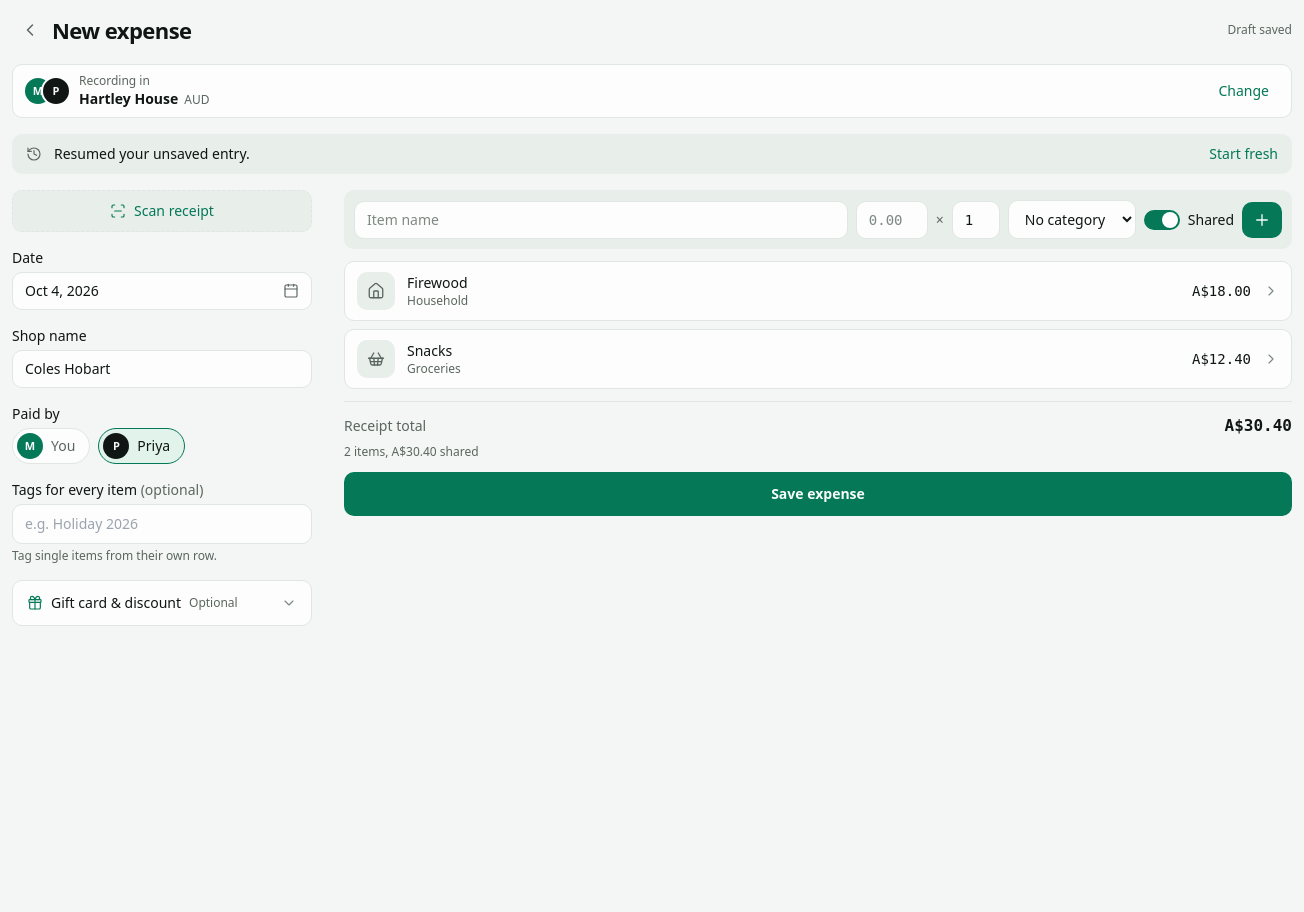
Test: ExpenseEditor changing group › keeps everything in place when the group cannot be loaded
The image size is (1304, 912).
Click the button with aria-label "change group" at (1244, 91), box [1208,75,1279,107]
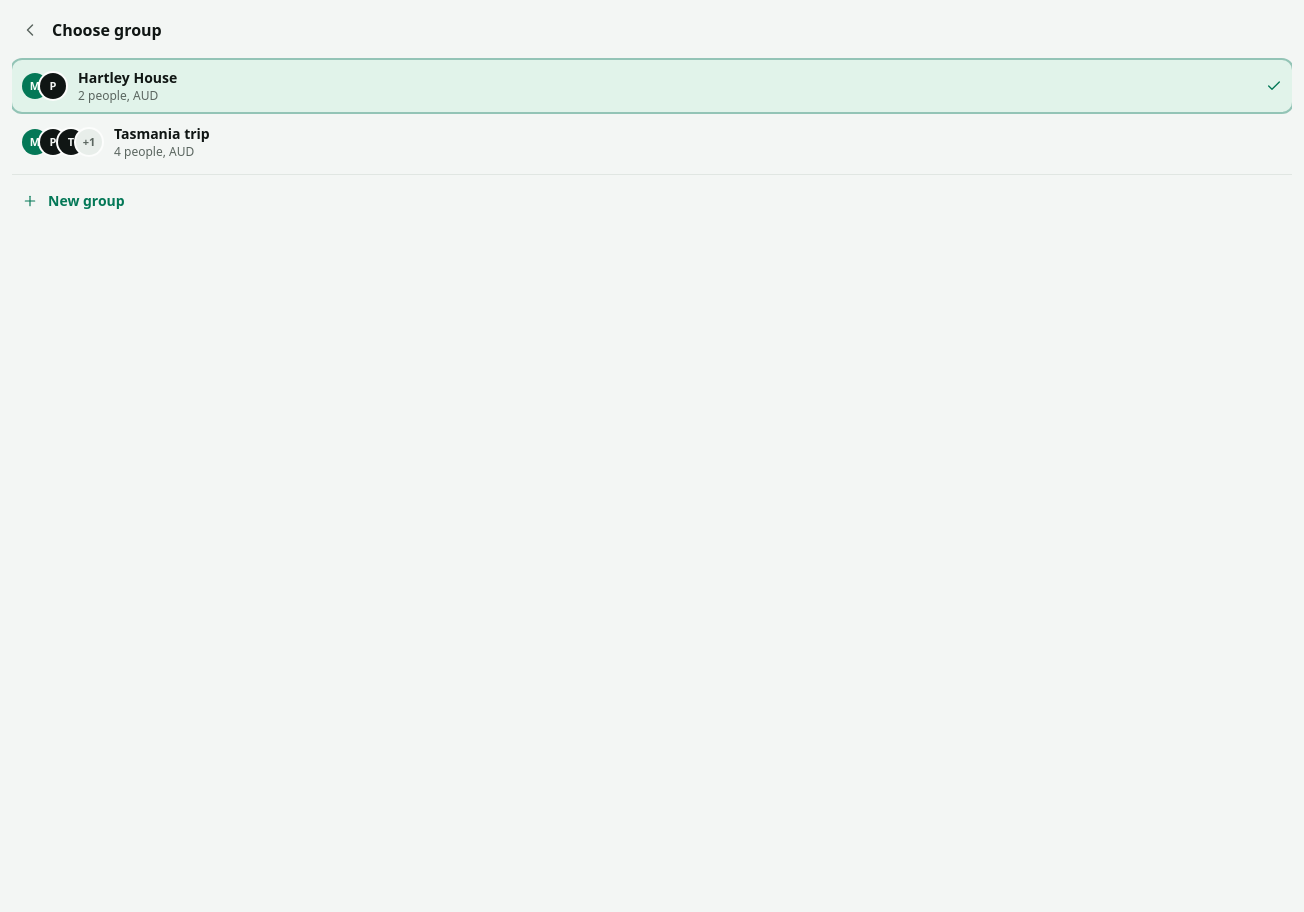
Click the option "M P T +1 Tasmania trip 4 people, AUD" at (116, 142), box [22,124,210,160]
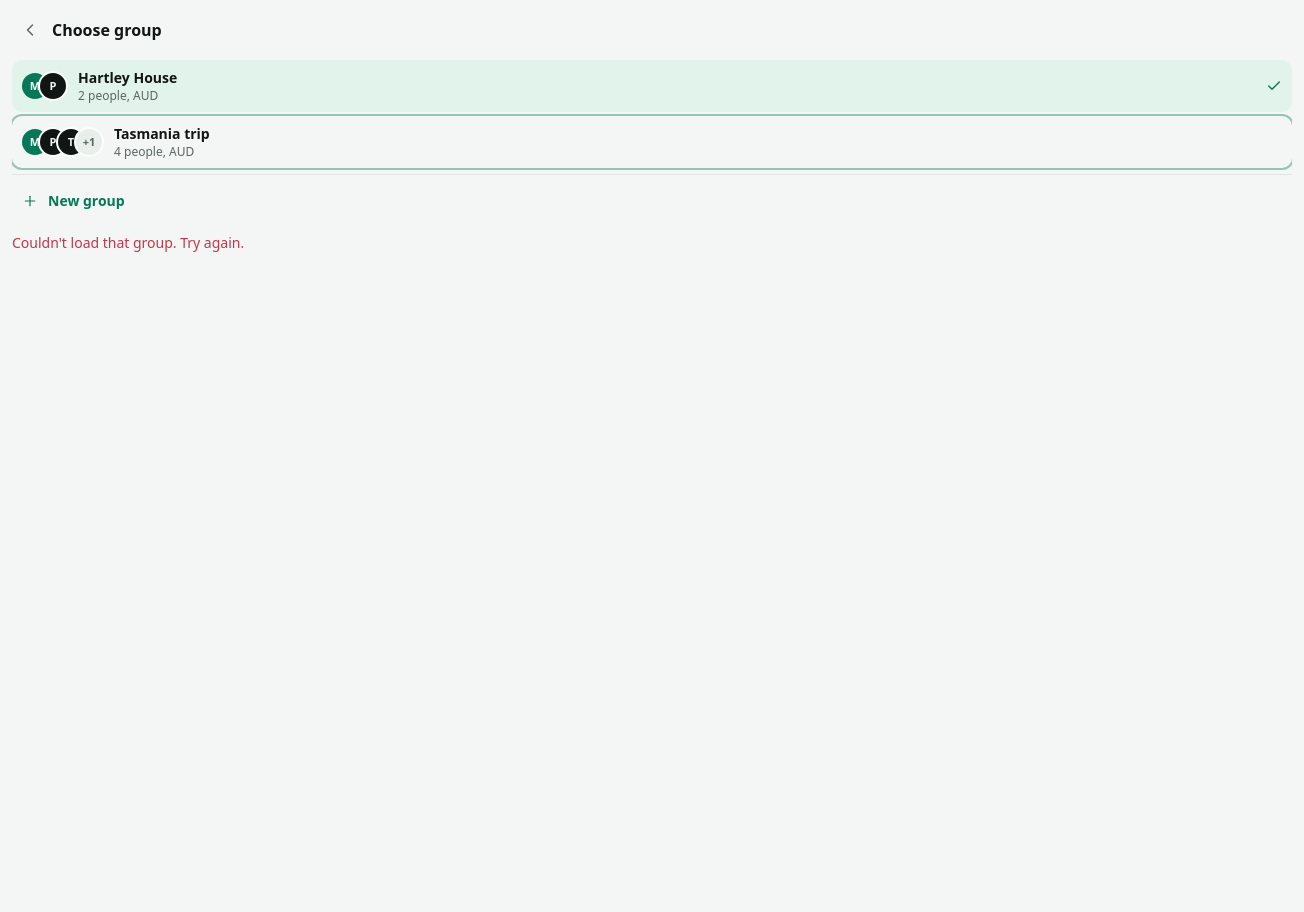
Expected: the text "Couldn't load that group. Try again." is shown, [12,233,244,252]
